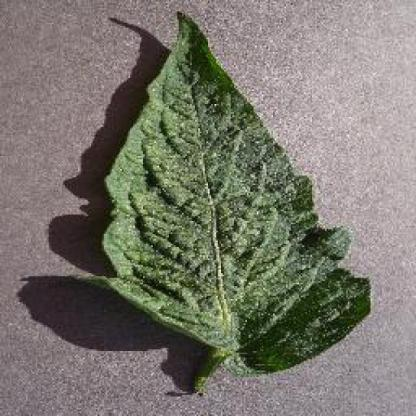Tomato_Spider_Mites: (104, 12, 371, 371)
